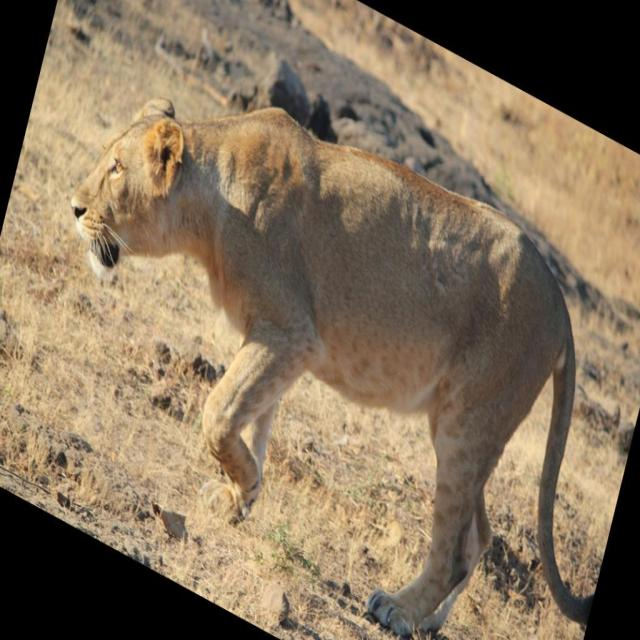Lion: (15, 3, 640, 639)
